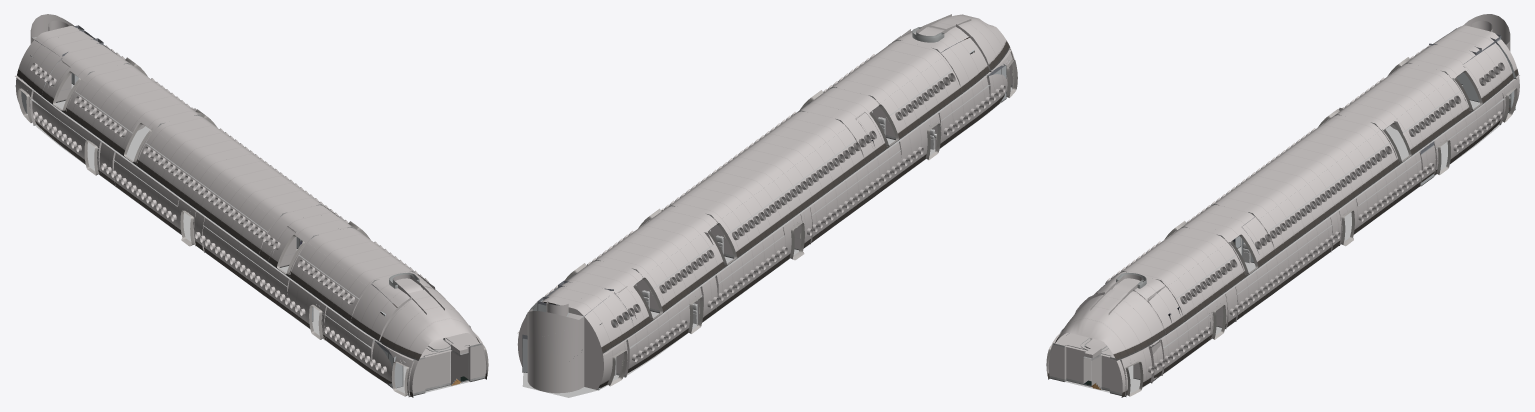
File: Airplane_Interior.FBX
3 views of the same model, side by side, from view 1: azimuth 30°, elevation 25°; view 2: azimuth 150°, elevation 25°; view 3: azimuth 330°, elevation 25° (orthographic). The views are drawn at different scales.
Parts seen in each view (by area): view 1: Wall, 2F_Galley_Patition_Toilet_ETC, Stairs, 1F_Celling, 2F_Floor, 1F_Floor, 1F_Galley_Patition_Toilet_ETC, 2F_ceilling; view 2: Wall, Stairs, 2F_Galley_Patition_Toilet_ETC, 1F_Galley_Patition_Toilet_ETC, 2F_Floor, 1F_Celling, 1F_Floor, 2F_ceilling; view 3: Wall, 2F_Galley_Patition_Toilet_ETC, Stairs, 1F_Celling, 2F_Floor, 1F_Galley_Patition_Toilet_ETC, 1F_Floor, 2F_ceilling.
Part boxes in pixels (box(x1,y1,x2,y2)): Wall: box(15, 26, 488, 397); 2F_Galley_Patition_Toilet_ETC: box(30, 25, 445, 342); Stairs: box(30, 14, 453, 351); 1F_Celling: box(15, 75, 482, 360); 2F_Floor: box(21, 79, 381, 343); 1F_Floor: box(27, 113, 469, 395); 1F_Galley_Patition_Toilet_ETC: box(21, 90, 470, 388); 2F_ceilling: box(75, 77, 413, 299); Wall: box(517, 14, 1017, 389); Stairs: box(518, 14, 971, 393); 2F_Galley_Patition_Toilet_ETC: box(525, 24, 991, 332); 1F_Galley_Patition_Toilet_ETC: box(522, 59, 1014, 390); 2F_Floor: box(609, 70, 991, 349); 1F_Celling: box(517, 49, 1011, 354); 1F_Floor: box(522, 87, 1012, 397); 2F_ceilling: box(606, 44, 952, 288); Wall: box(1046, 25, 1519, 397); 2F_Galley_Patition_Toilet_ETC: box(1074, 28, 1516, 334); Stairs: box(1080, 14, 1510, 351); 1F_Celling: box(1052, 75, 1519, 360); 2F_Floor: box(1153, 79, 1513, 343); 1F_Galley_Patition_Toilet_ETC: box(1060, 91, 1515, 383); 1F_Floor: box(1065, 113, 1508, 395); 2F_ceilling: box(1119, 79, 1460, 299).
Size of the model in its own units: 722 by 547 by 5318.
